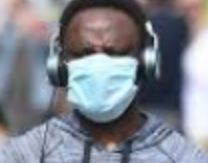with_facemask: (62, 56, 142, 122)
